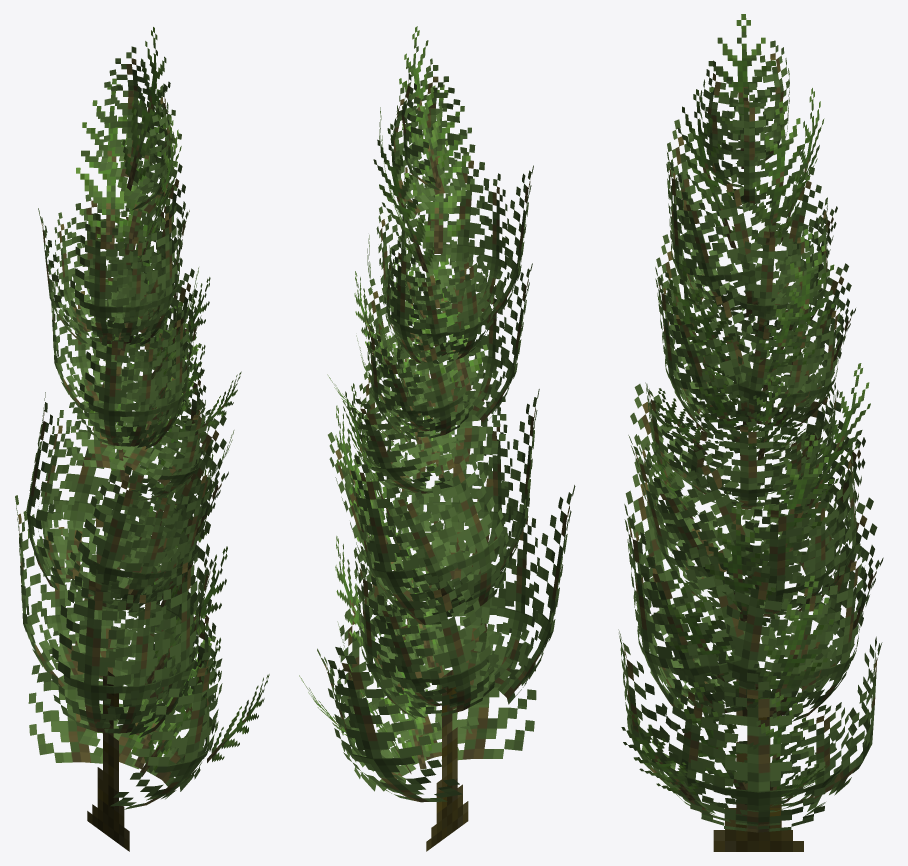
The model's file is 2.5_Fern_tree.fbx.
The picture shows the model from 3 angles, left to right: view 1: azimuth 30°, elevation 25°; view 2: azimuth 150°, elevation 25°; view 3: azimuth 270°, elevation 25°; orthographic projection. The views are drawn at different scales.
Parts seen in each view (by area): view 1: Plane.006; view 2: Plane.006; view 3: Plane.006.
Part boxes in pixels (<box>): Plane.006: <box>15,27,269,851</box>; Plane.006: <box>299,26,575,851</box>; Plane.006: <box>618,14,883,851</box>.
Size of the model in its own units: 232 by 791 by 241.
Materials: 76 (76 with a texture image).
